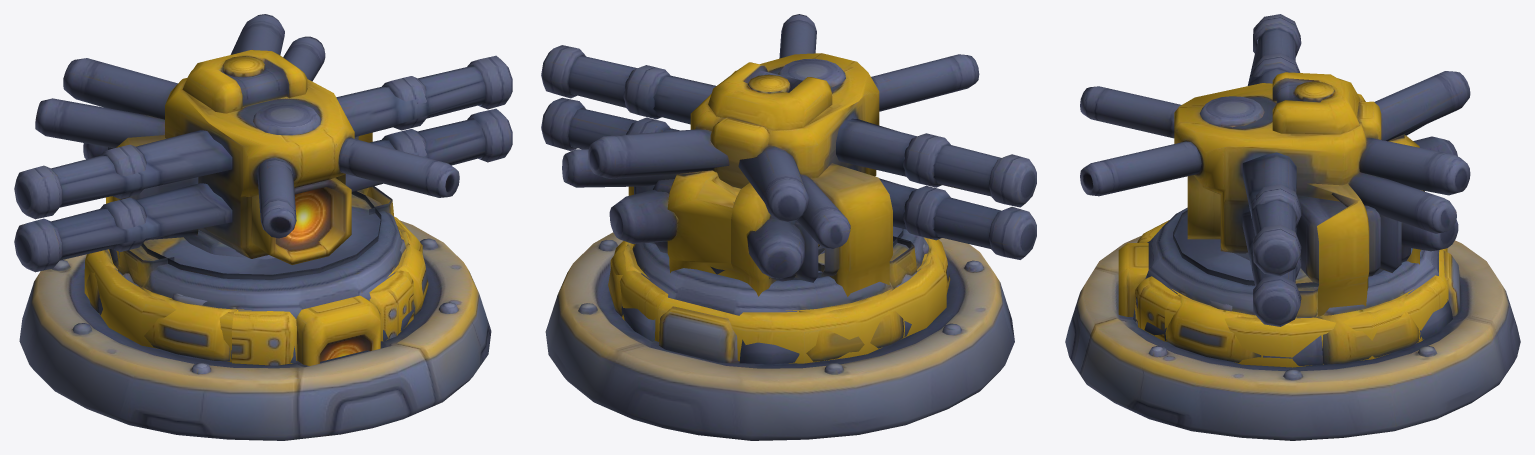
The picture shows the model from 3 angles, left to right: view 1: azimuth 30°, elevation 25°; view 2: azimuth 150°, elevation 25°; view 3: azimuth 270°, elevation 25°; orthographic projection. The views are drawn at different scales.
Visible parts, largest first — view 1: Barrel, TurretBase; view 2: Barrel, TurretBase; view 3: Barrel, TurretBase.
Boxes of the visible parts, bbox=[...] form: Barrel: bbox=[14, 14, 512, 365]; TurretBase: bbox=[19, 186, 491, 440]; Barrel: bbox=[541, 14, 1036, 363]; TurretBase: bbox=[545, 226, 1014, 440]; Barrel: bbox=[1080, 14, 1470, 367]; TurretBase: bbox=[1065, 207, 1520, 440].
Size of the model in its own units: 202 by 174 by 109.
Materials: 1 (1 with a texture image).
